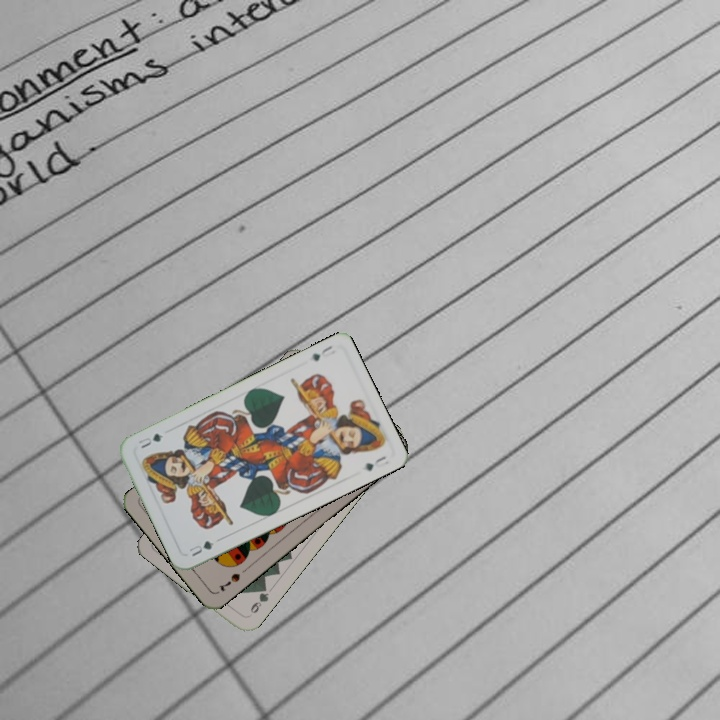G9: (244, 582, 271, 620)
GU: (185, 536, 217, 559), (308, 341, 336, 364)
S7: (215, 569, 243, 594)
